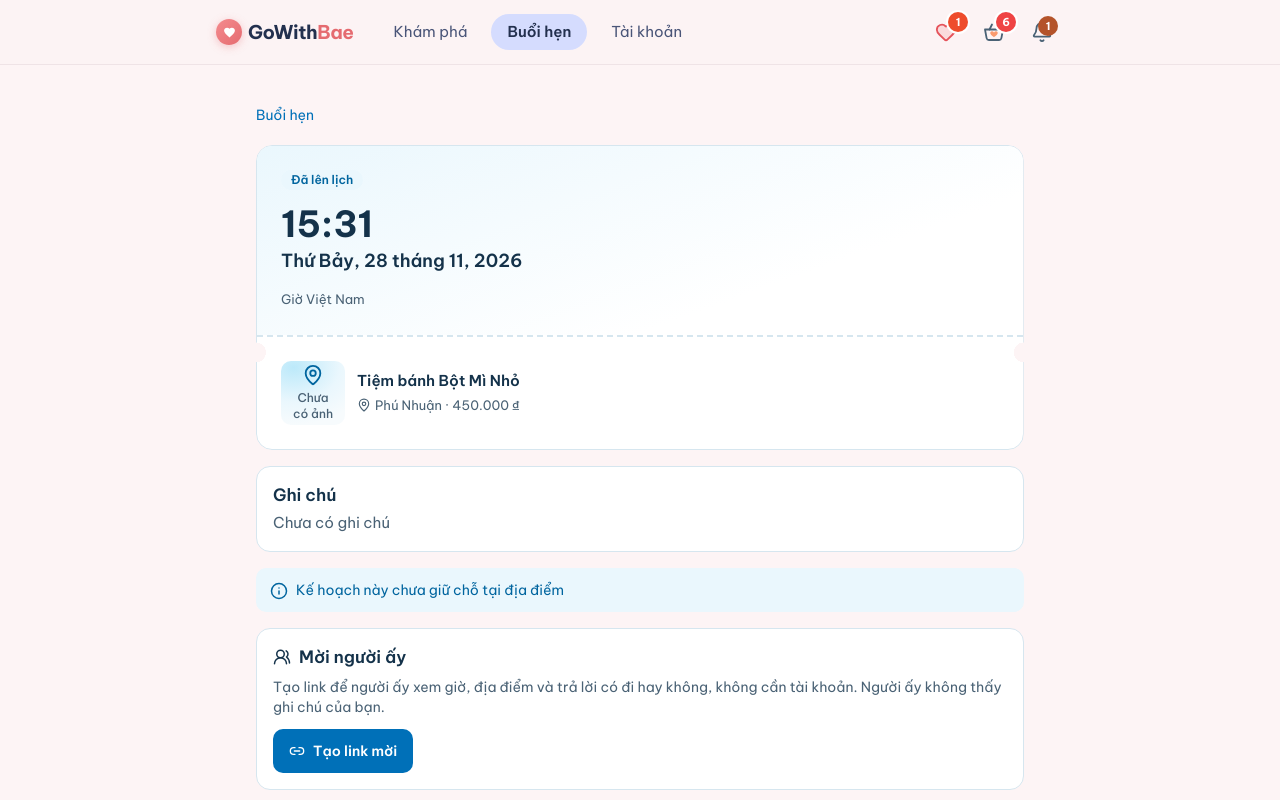
Test: Mời người ấy xem kế hoạch › chủ tạo link mời trên trang chi tiết kế hoạch; link chỉ hiện một lần
Expected: the text "không cần tài khoản" is shown, [273,678,1002,716]
Click the button "Tạo link mời": point(343, 751) [273,729,413,773]
(page scrolled)
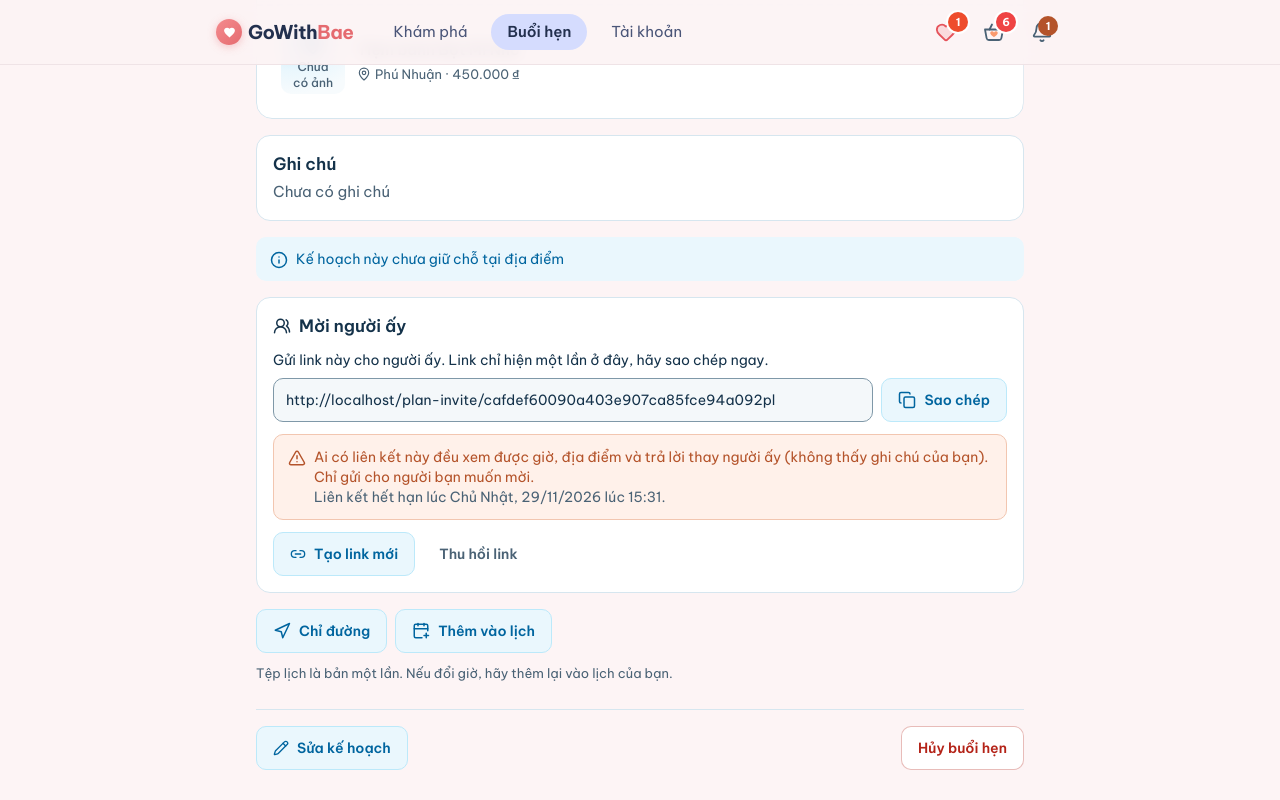
Now the text "Link chỉ hiện một lần" is shown, box [273,351,768,369]
